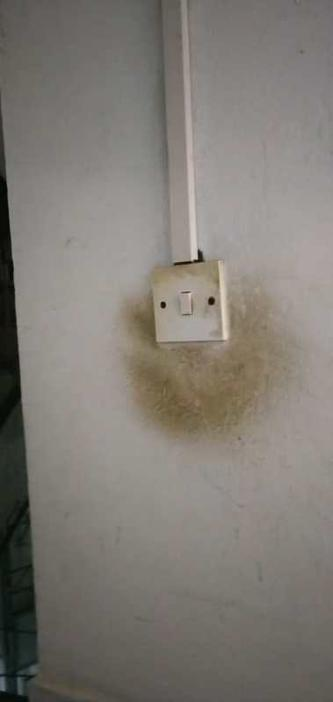switch: (169, 288, 207, 322)
